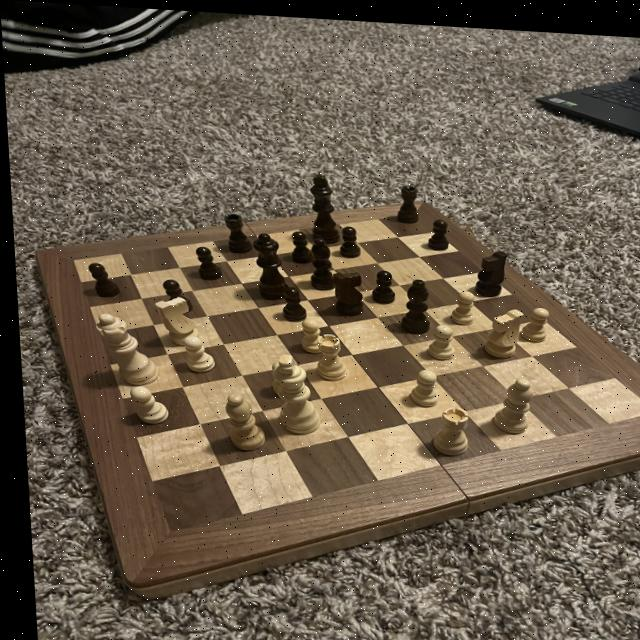bishop: (390, 269, 432, 332), (301, 229, 338, 291)
black-bishop: (304, 167, 342, 244)
black-king: (466, 240, 508, 293), (325, 263, 366, 314)
black-knight: (82, 257, 118, 300), (282, 220, 318, 260), (272, 278, 305, 320), (418, 211, 451, 249), (192, 242, 222, 281), (157, 276, 187, 313), (331, 218, 360, 256), (364, 264, 393, 301)
black-pawn: (245, 225, 289, 301)
black-queen: (217, 208, 252, 254), (389, 178, 422, 221)
black-rook: (484, 368, 534, 433), (217, 388, 262, 452)
white-bishop: (258, 348, 317, 435)
white-king: (472, 298, 526, 359), (149, 293, 198, 348)
white-knight: (122, 381, 168, 426), (398, 362, 441, 407), (513, 296, 551, 340), (442, 282, 477, 322), (177, 332, 211, 373), (420, 318, 455, 357), (263, 352, 284, 400)
white-pawn: (86, 308, 159, 388)
white-queen: (423, 398, 467, 455), (308, 326, 345, 382)
